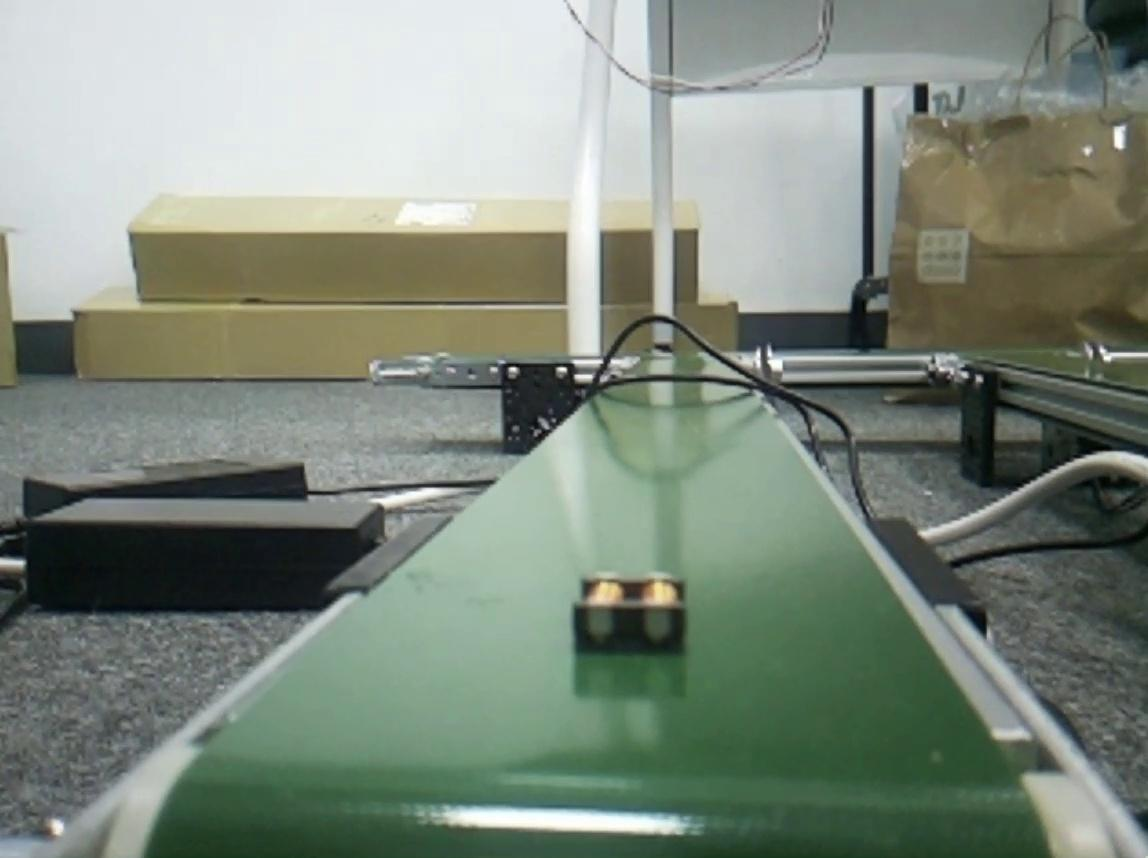inductor: (578, 578, 685, 659)
